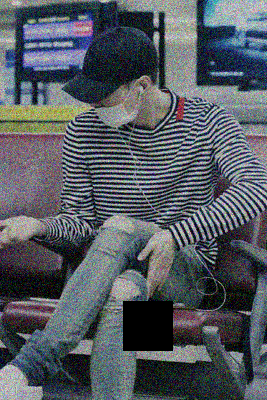mask_weared_incorrect: (90, 84, 138, 131)
